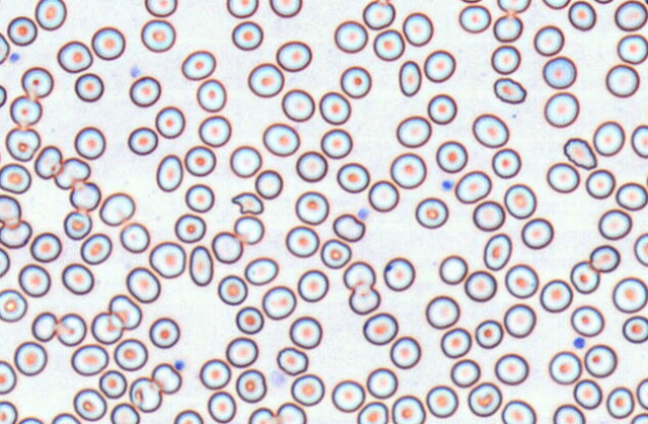PLT: (439, 178, 454, 192), (356, 207, 371, 220), (574, 336, 587, 350), (8, 52, 20, 64), (174, 359, 186, 370)
RBC: (149, 241, 186, 278), (390, 152, 426, 188), (543, 91, 579, 127), (125, 266, 160, 303), (612, 276, 647, 313), (472, 113, 509, 148), (247, 62, 284, 97), (262, 122, 300, 156), (467, 381, 502, 417), (99, 191, 135, 226), (70, 343, 108, 376), (261, 285, 296, 320), (425, 294, 460, 329), (294, 190, 329, 225), (5, 126, 40, 161), (108, 294, 142, 330), (454, 170, 491, 203), (583, 343, 617, 378), (504, 263, 538, 298), (13, 341, 47, 376), (333, 19, 368, 53), (129, 376, 162, 412), (54, 156, 90, 189), (362, 312, 398, 345), (503, 183, 536, 219), (56, 40, 92, 73), (592, 120, 625, 156), (73, 387, 107, 421), (548, 350, 582, 384), (542, 55, 576, 89), (91, 26, 125, 60), (140, 19, 175, 52), (395, 115, 431, 147), (275, 40, 311, 72), (482, 232, 512, 270), (290, 373, 324, 406), (331, 379, 365, 412), (113, 338, 147, 371), (289, 315, 322, 349), (425, 384, 458, 418), (570, 304, 604, 337), (539, 278, 572, 312), (281, 88, 315, 121), (605, 64, 639, 97), (383, 256, 415, 291), (503, 303, 535, 338), (155, 153, 183, 192), (90, 311, 123, 344), (61, 262, 94, 295), (464, 269, 497, 302), (318, 91, 351, 124), (389, 335, 421, 369), (494, 353, 528, 385), (285, 225, 319, 257), (563, 137, 597, 169), (414, 196, 448, 228), (18, 263, 50, 297), (598, 208, 632, 240), (235, 368, 266, 403), (402, 11, 433, 46), (181, 49, 216, 80), (211, 230, 243, 263), (367, 179, 399, 212), (80, 232, 112, 265), (546, 161, 579, 193), (435, 140, 467, 173), (520, 217, 553, 249), (198, 115, 231, 147), (229, 145, 262, 177), (372, 28, 404, 61), (339, 65, 371, 98), (423, 49, 455, 82), (55, 312, 86, 346), (297, 268, 328, 302), (569, 260, 600, 294), (188, 245, 213, 286), (348, 282, 380, 314), (148, 316, 180, 348), (295, 150, 327, 182), (320, 127, 352, 159), (21, 66, 53, 98), (129, 75, 161, 107), (225, 336, 258, 367), (472, 200, 505, 231), (336, 162, 369, 193), (614, 0, 647, 31), (74, 126, 105, 159), (196, 78, 226, 112), (69, 180, 101, 211), (199, 358, 231, 389), (366, 367, 397, 399), (0, 162, 31, 194), (119, 221, 150, 253), (9, 95, 41, 126), (184, 145, 216, 176), (29, 231, 61, 262), (616, 33, 648, 64), (533, 24, 564, 56), (342, 260, 375, 290), (155, 105, 185, 138), (34, 145, 63, 179), (391, 394, 425, 423), (244, 256, 278, 285), (320, 238, 351, 269), (440, 327, 471, 358), (6, 15, 37, 46), (151, 362, 181, 394), (615, 181, 647, 211), (34, 0, 66, 30), (231, 20, 263, 50), (207, 390, 236, 423), (362, 0, 395, 29), (458, 4, 491, 33), (233, 214, 264, 244), (217, 274, 247, 305), (174, 213, 205, 243), (491, 147, 521, 178), (427, 93, 457, 124), (585, 168, 615, 199), (276, 346, 308, 375), (493, 76, 526, 104), (0, 288, 27, 322), (438, 254, 468, 284), (490, 44, 520, 74), (0, 219, 31, 248), (573, 378, 602, 409), (567, 0, 596, 31), (127, 126, 158, 155), (606, 386, 634, 418), (98, 369, 127, 399), (63, 210, 92, 240), (450, 358, 480, 387), (254, 169, 283, 199), (184, 183, 214, 212), (74, 72, 103, 102), (589, 244, 620, 272), (398, 60, 422, 96), (235, 305, 264, 334), (474, 319, 503, 348), (501, 399, 536, 423), (493, 14, 522, 42), (31, 311, 57, 342), (356, 401, 388, 423), (622, 315, 647, 343), (0, 194, 21, 226), (552, 403, 585, 423), (276, 402, 306, 423), (110, 402, 140, 423), (630, 124, 647, 158), (226, 0, 258, 18), (269, 0, 302, 17), (144, 0, 177, 17), (0, 359, 16, 394), (247, 406, 275, 423), (633, 232, 647, 266), (496, 0, 530, 13), (173, 409, 203, 423), (636, 377, 648, 410), (0, 400, 17, 423), (51, 412, 80, 423), (0, 247, 10, 277), (0, 32, 9, 64), (541, 0, 570, 9), (16, 416, 44, 423), (630, 412, 647, 423), (0, 84, 7, 107), (644, 169, 648, 191), (593, 0, 614, 4), (459, 0, 483, 3)
Schistocyte: (332, 214, 367, 242), (231, 191, 263, 214)
